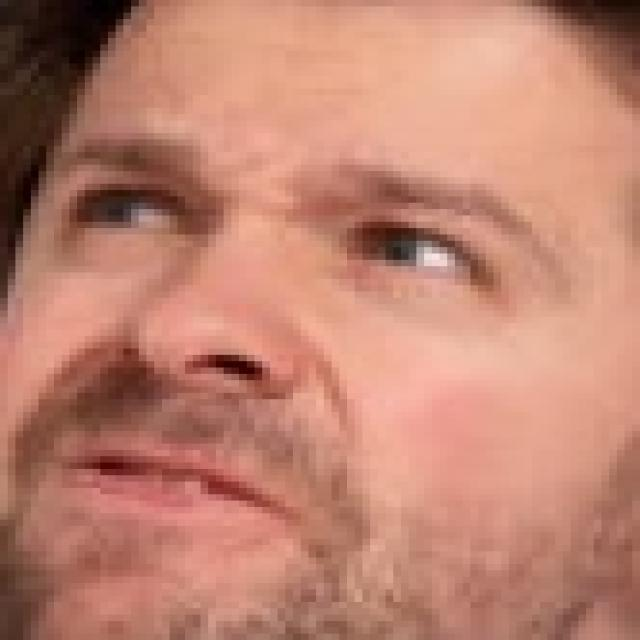Anxiety: (8, 0, 640, 634)
